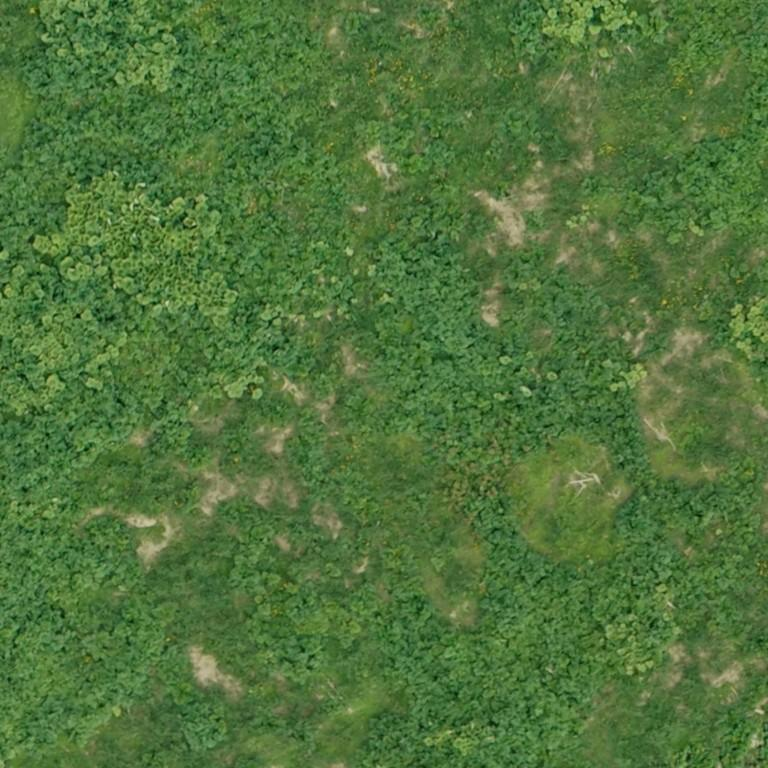hogweed: (355, 462, 767, 767), (0, 16, 347, 290), (0, 345, 228, 760), (377, 243, 658, 492), (627, 0, 767, 242), (248, 614, 326, 680), (228, 515, 277, 594), (394, 188, 463, 240), (639, 333, 668, 358)
